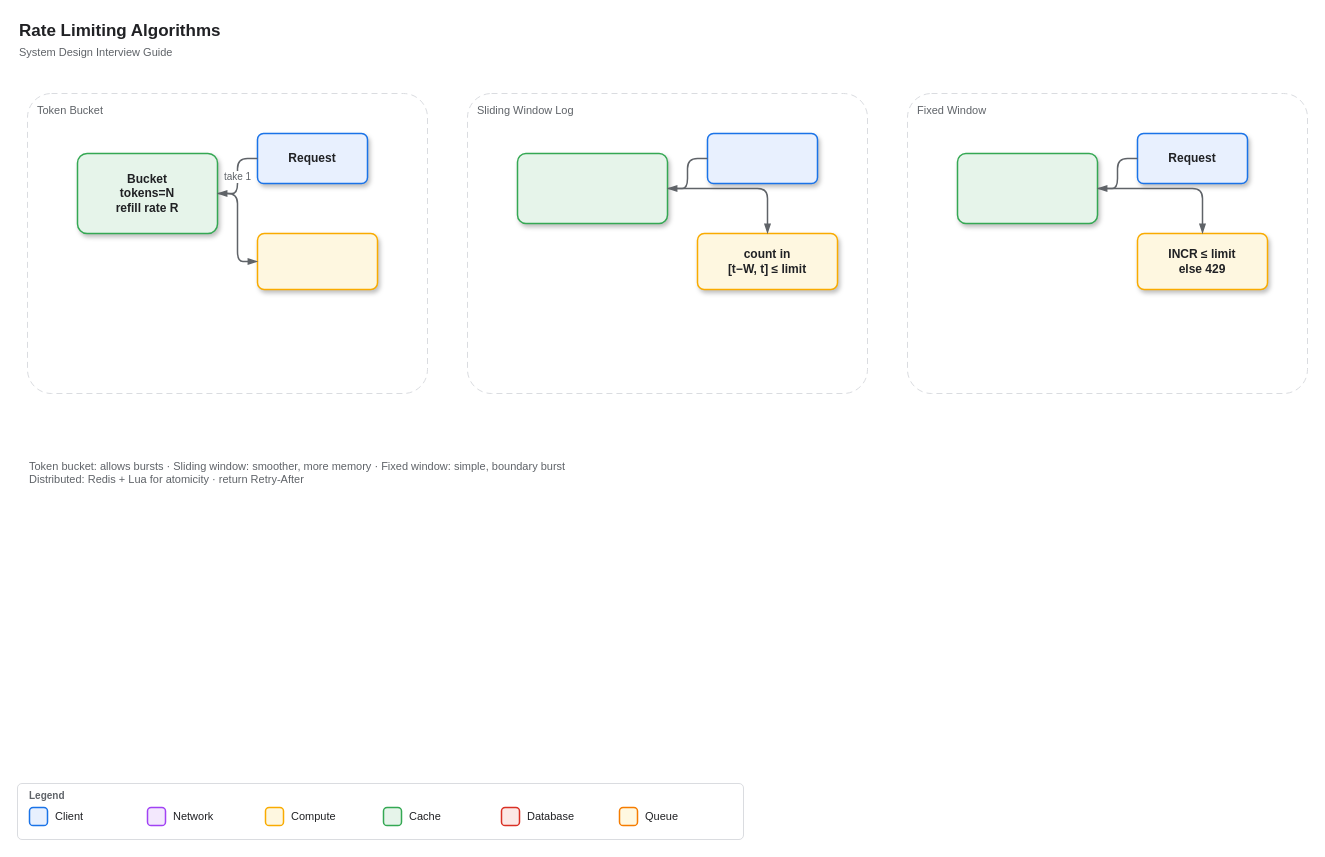
This 1325x857 diagram has some shape labels left out. Here are the shapes that lost their labels. From the top down, the centre of each, then its label:
At pixel 763 159: "Request @ t".
At pixel 593 189: "Sorted set of timestamps".
At pixel 1028 189: "Counter per window".
At pixel 318 262: "allow if token ≥ 1".
